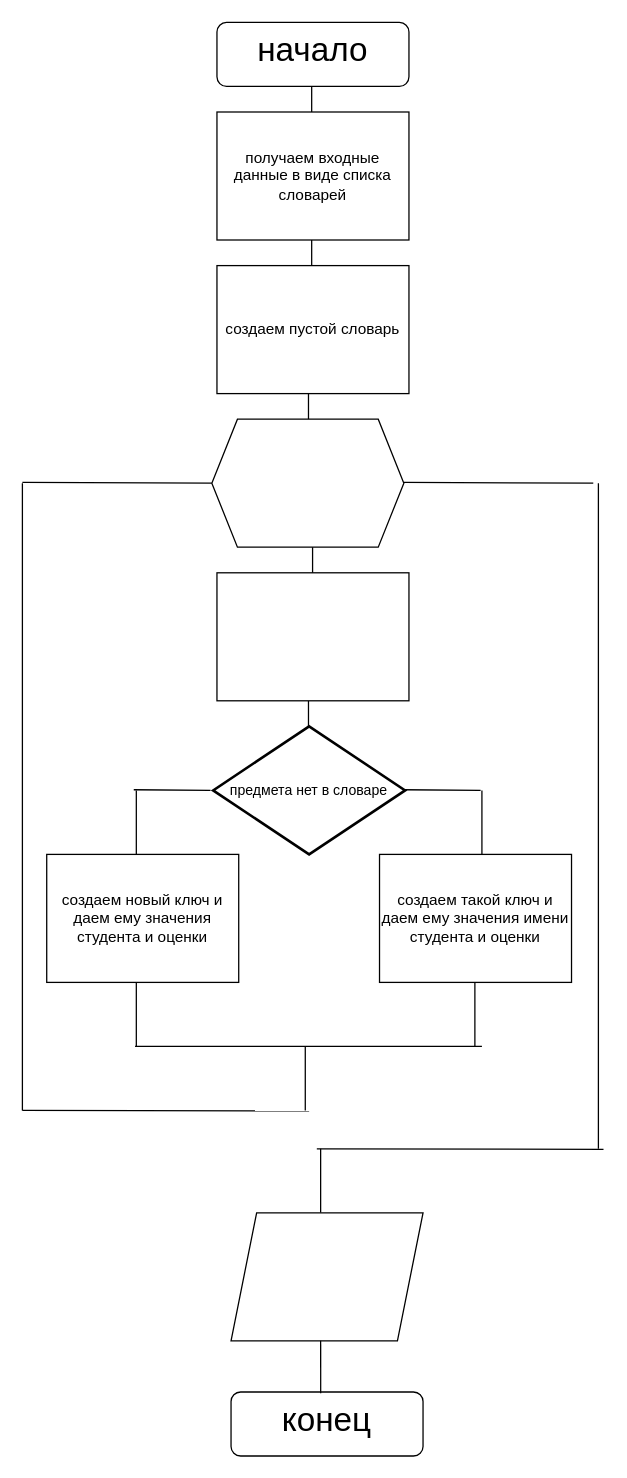
Some shapes in this 627 by 1478 pixel diagram are drawn without their labels. The centre of each missing label's shape, as x and y in pixels:
"вывод словаря" goes at pixel 326 1276.
"вытягиваем элементы из словаря в переменные subject,student,grade" goes at pixel 312 636.
"проходим по словарям списка" goes at pixel 307 482.
